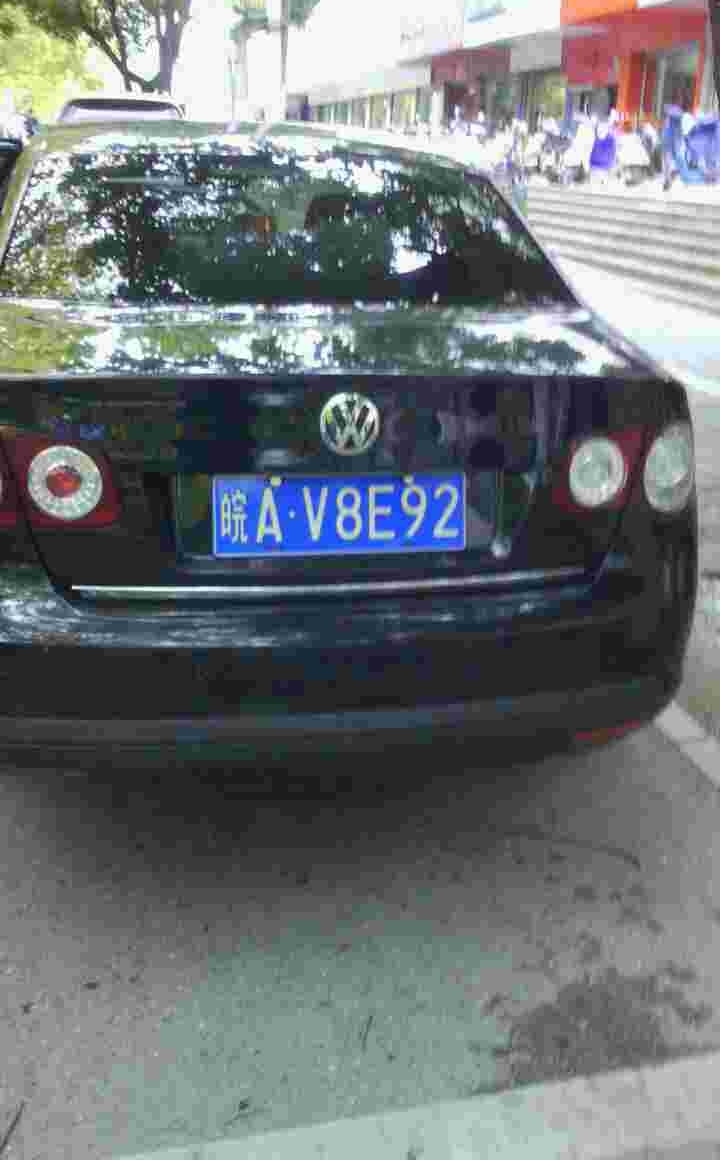license_plate: (217, 474, 470, 560)
